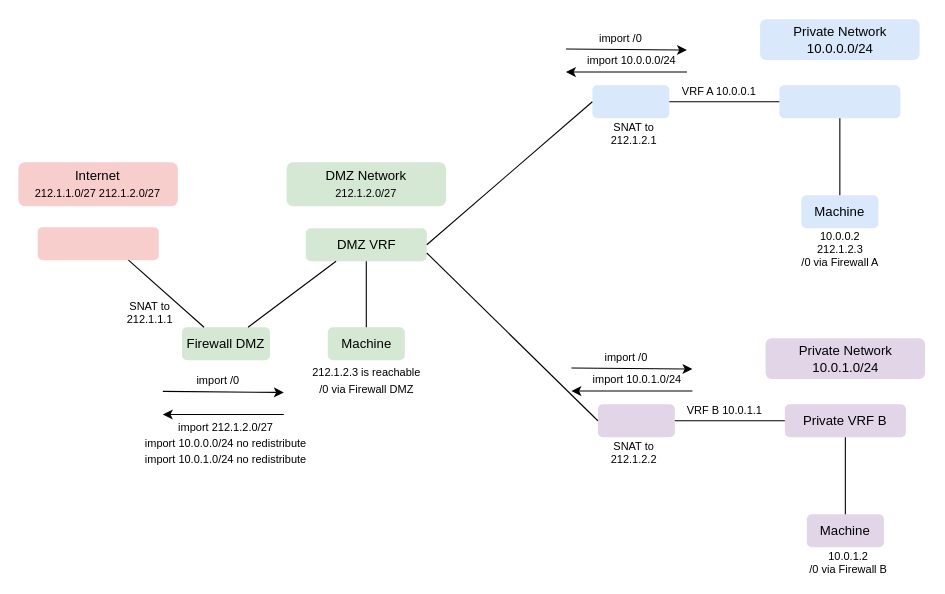
The diagram is 945 pixels wide and 594 high, and some of its shapes have lost their labels. The box of each missing label's shape, as (x1, y1, x2, y2) in pixels:
Firewall A: (592, 85, 669, 118)
Firewall B: (597, 404, 674, 437)
Internet VRF: (37, 227, 158, 260)
Private VRF A: (779, 85, 900, 118)
